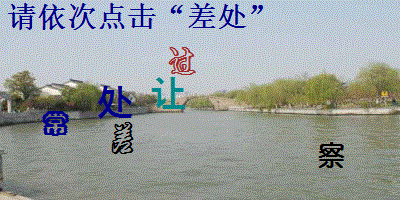text: (149, 76, 188, 111), (97, 84, 134, 120), (167, 45, 197, 77), (316, 140, 346, 172), (110, 121, 135, 155), (41, 110, 70, 139)
